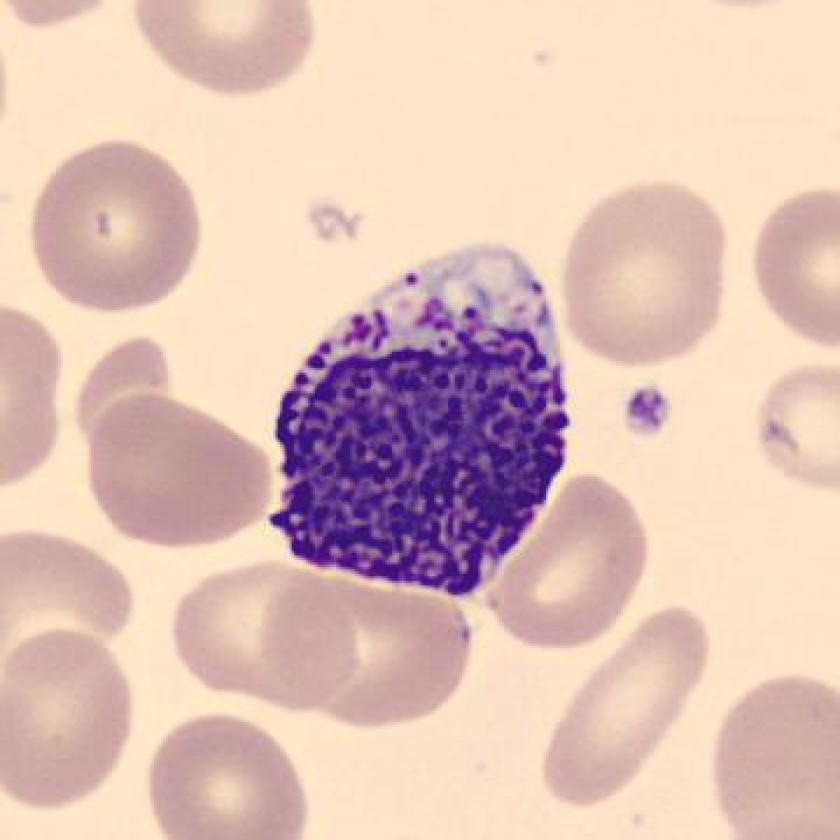basophil: (269, 258, 573, 586)
